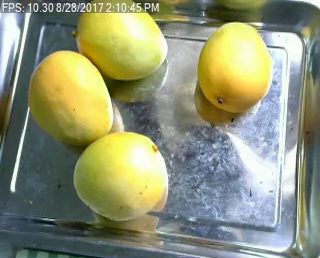Mango: (72, 133, 169, 223), (28, 50, 112, 142), (74, 1, 168, 80), (199, 22, 273, 110)
